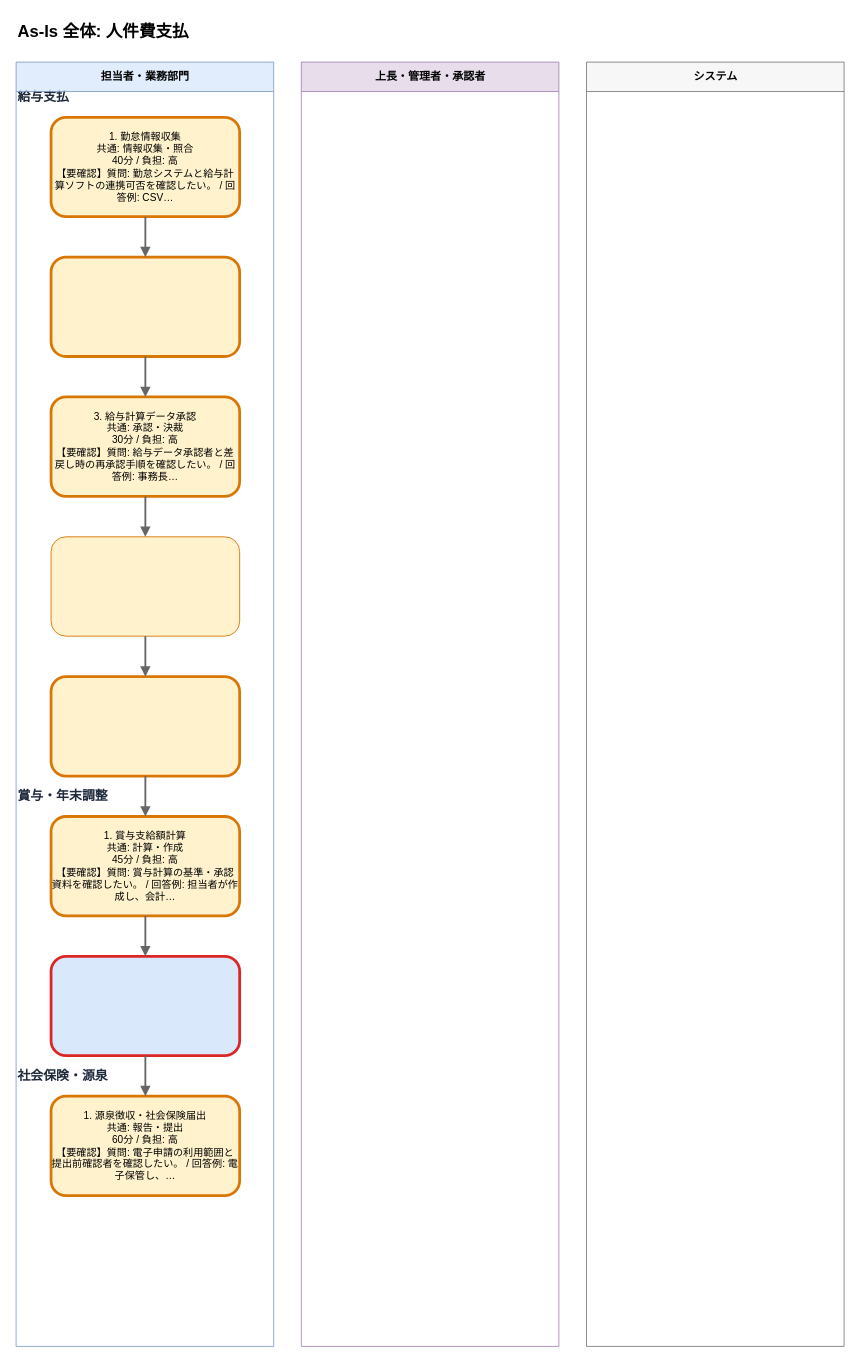
Some shapes in this 860 by 1363 pixel diagram are drawn without their labels. Each missing label, with the centre of its shape:
2. 年末調整処理 共通: 計算・作成 90分 / 負担: 高: pixel 145 1005
2. 給与計算入力 共通: システム入力 60分 / 負担: 高 【要確認】質問: 給与計算ソフトへのCSV取込可否を確認したい。 / 回答例: CSVで出力…: pixel 145 306
4. 給与振込 共通: 実行・支払 20分 / 負担: 中 【要確認】質問: 給与振込データの作成・承認者分離状況を確認したい。 / 回答例: 担当者が…: pixel 145 586
5. 給与仕訳入力 共通: システム入力 20分 / 負担: 高 【要確認】質問: 給与計算ソフトから会計システムへ仕訳連携できるか確認したい。 / 回答例:…: pixel 145 726
